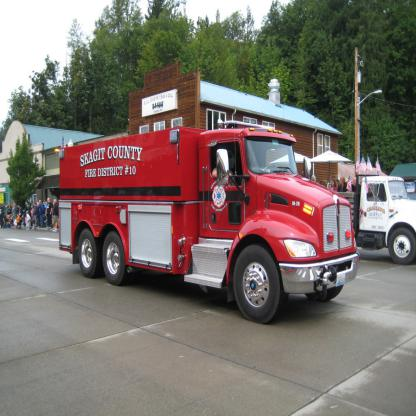Truck: (64, 120, 343, 325), (318, 156, 416, 265)
